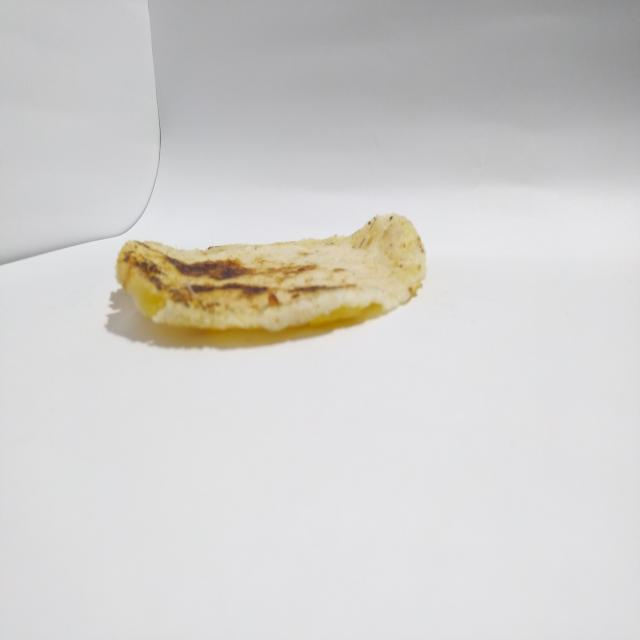Mbeju: (102, 200, 429, 346)
